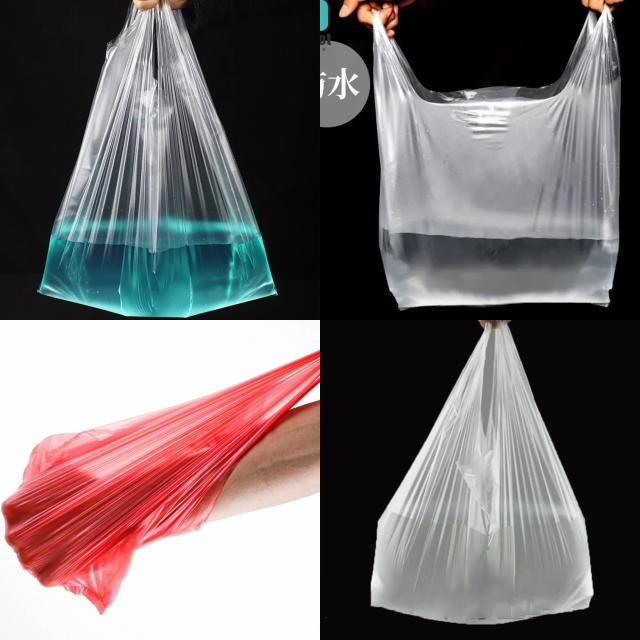Single-layer Plastic: (2, 352, 319, 612), (374, 9, 620, 309), (40, 6, 275, 317), (371, 322, 591, 624)
